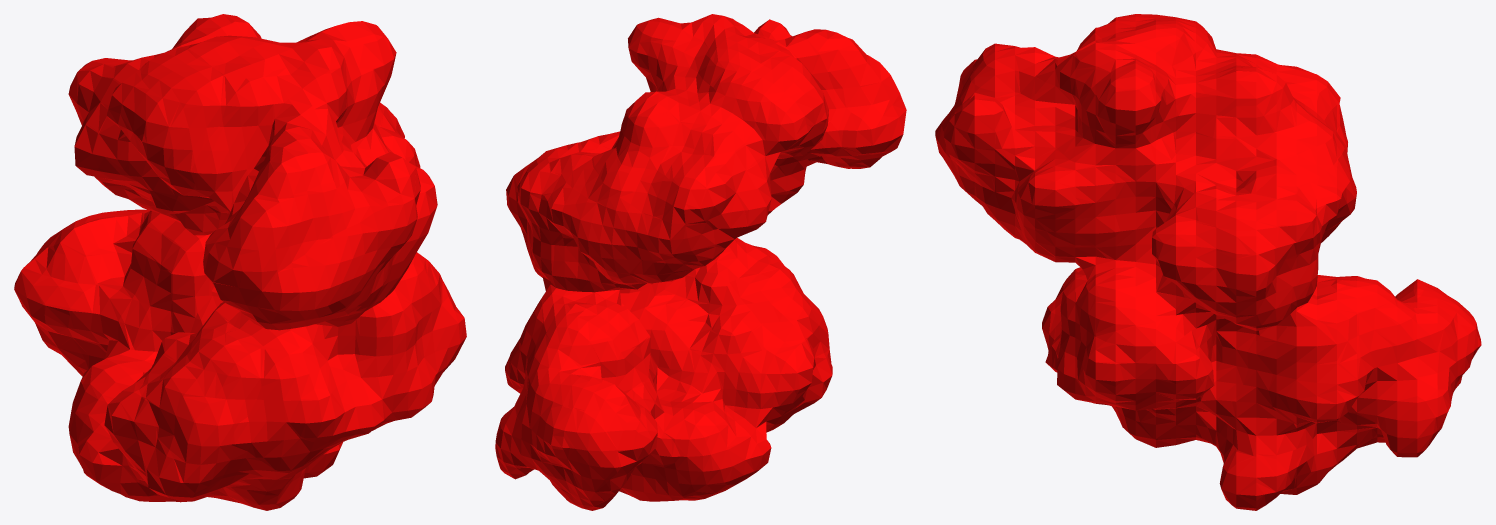
The model's file is typA_coarse.dae.
The picture shows the model from 3 angles, left to right: view 1: azimuth 30°, elevation 25°; view 2: azimuth 150°, elevation 25°; view 3: azimuth 270°, elevation 25°; orthographic projection. The views are drawn at different scales.
Parts seen in each view (by area): view 1: typA; view 2: typA; view 3: typA.
Boxes of the visible parts, left/top/right/bottom form: typA: left=14, top=14, right=466, bottom=510; typA: left=495, top=14, right=906, bottom=510; typA: left=935, top=14, right=1481, bottom=510.
Bounding box in the file's own units: 69.91 × 101 × 115.
